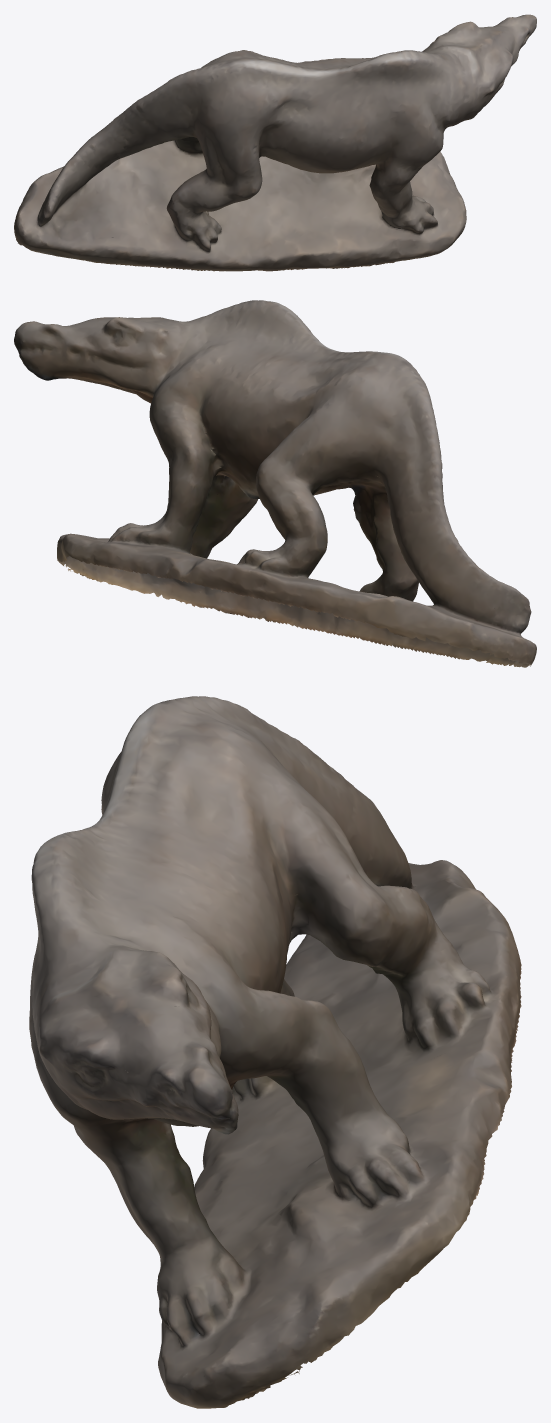
The model's file is brlsi-dinosaur.glb.
3 views of the same model, one above another, from view 1: azimuth 30°, elevation 25°; view 2: azimuth 150°, elevation 25°; view 3: azimuth 270°, elevation 25° (orthographic). The views are drawn at different scales.
Parts seen in each view (by area): view 1: Object_2; view 2: Object_2; view 3: Object_2.
Part boxes in pixels (x1,y1,x2,y2): Object_2: (14,14,536,271); Object_2: (14,300,536,667); Object_2: (29,696,521,1408).
Bounding box in the file's own units: 4.05 × 2 × 1.81.
